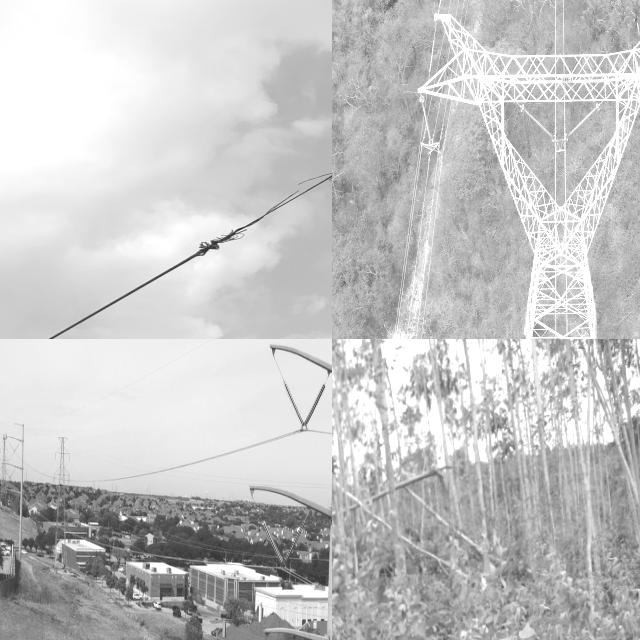杆塔: (404, 0, 640, 339), (50, 427, 76, 548), (0, 426, 14, 511)
正常绝缘子: (273, 512, 314, 585), (292, 374, 332, 444), (271, 367, 308, 434), (256, 510, 289, 581), (416, 88, 439, 160)
电缆破损: (176, 132, 332, 272)
